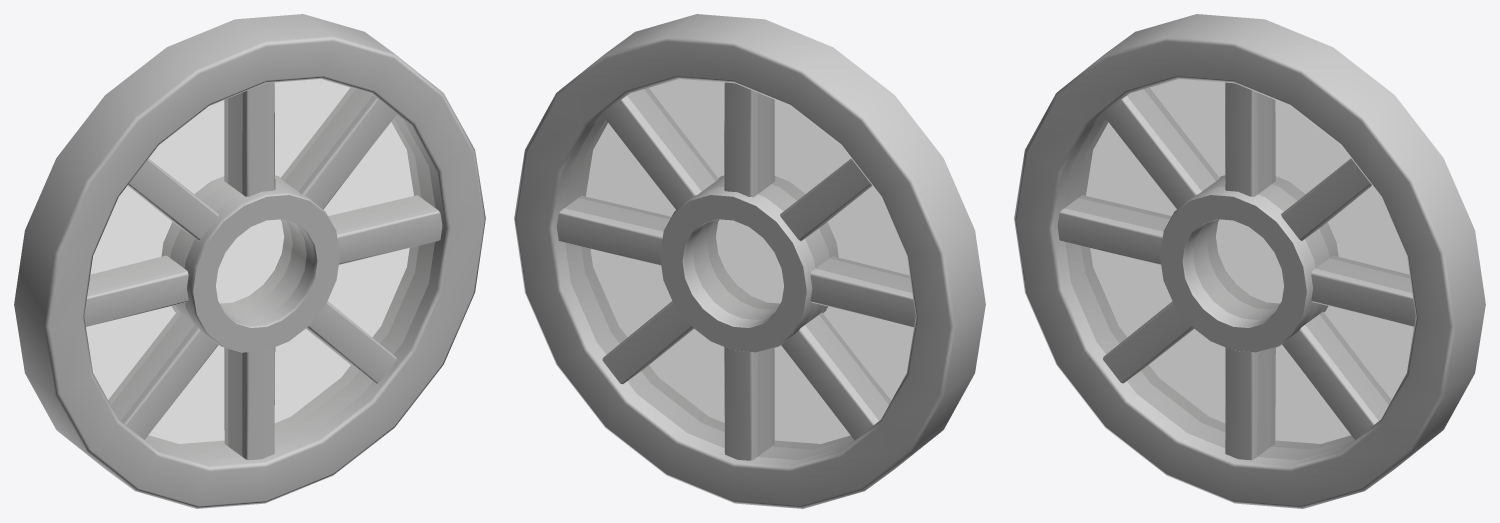
File: Window_26.fbx
The picture shows the model from 3 angles, left to right: view 1: azimuth 30°, elevation 25°; view 2: azimuth 150°, elevation 25°; view 3: azimuth 330°, elevation 25°; orthographic projection.
Parts seen in each view (by area): view 1: Window_26; view 2: Window_26; view 3: Window_26.
Boxes of the visible parts, left/top/right/bottom form: Window_26: left=14, top=14, right=485, bottom=508; Window_26: left=514, top=14, right=985, bottom=508; Window_26: left=1014, top=14, right=1485, bottom=508.
Bounding box in the file's own units: 226 × 226 × 29.53.
